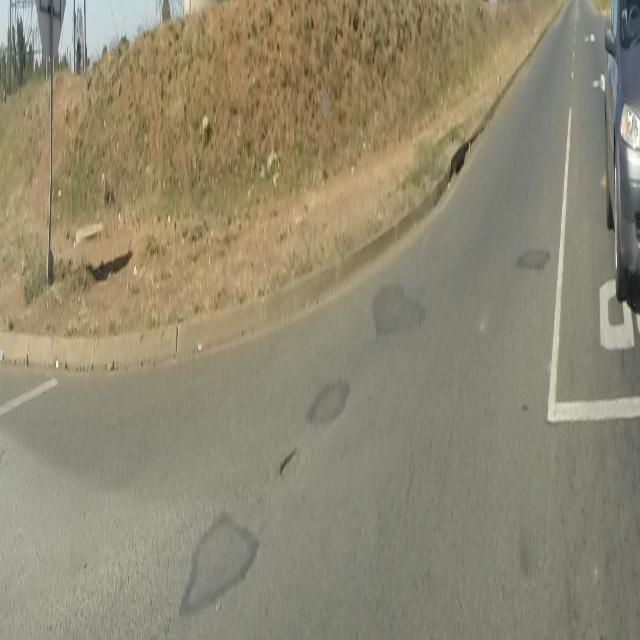pothole: (0, 430, 55, 518), (278, 444, 302, 484)
